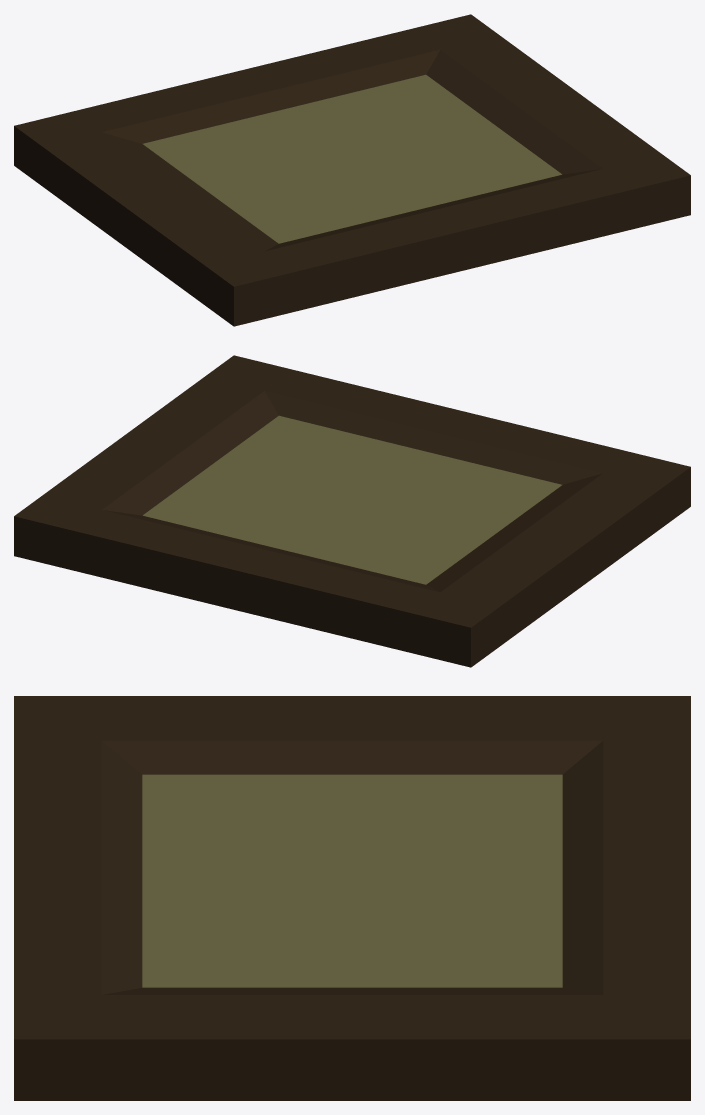
The model's file is OBJ_Tile_Sol.fbx.
The picture shows the model from 3 angles, top to bottom: view 1: azimuth 30°, elevation 25°; view 2: azimuth 150°, elevation 25°; view 3: azimuth 270°, elevation 25°; orthographic projection. The views are drawn at different scales.
Parts seen in each view (by area): view 1: Tile_Sol; view 2: Tile_Sol; view 3: Tile_Sol.
Part boxes in pixels (left/top/right/bottom): Tile_Sol: left=14, top=14, right=690, bottom=326; Tile_Sol: left=14, top=355, right=690, bottom=667; Tile_Sol: left=14, top=696, right=690, bottom=1100.
Bounding box in the file's own units: 1200 × 100 × 1000.
